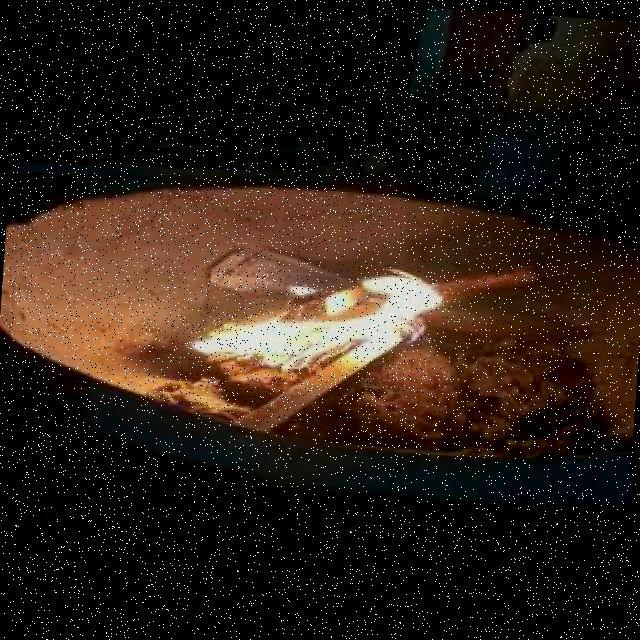Fire: (168, 236, 467, 394)
